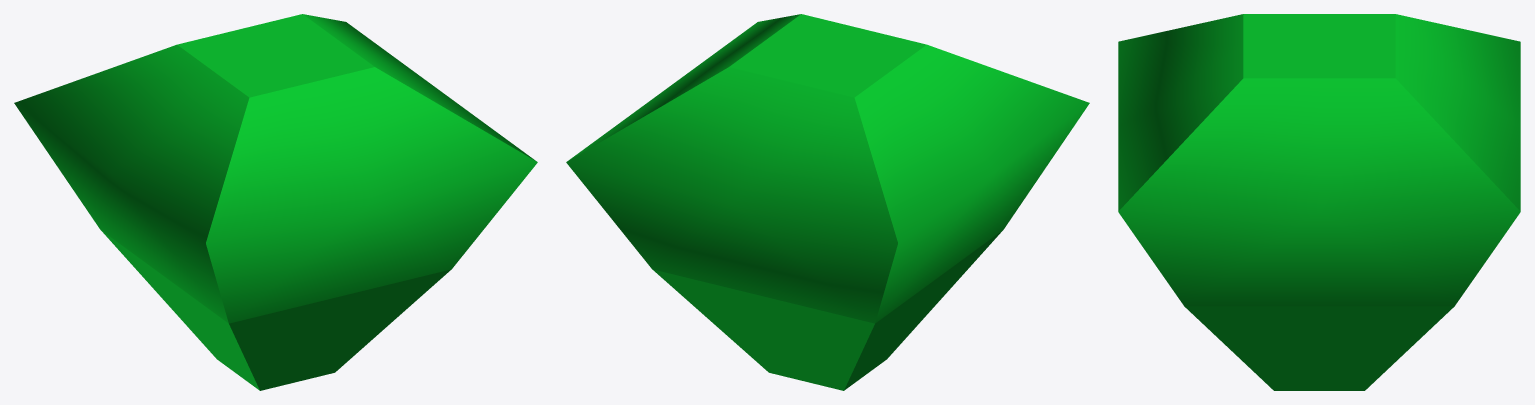
Rendered from jemstone.fbx.
The picture shows the model from 3 angles, left to right: view 1: azimuth 30°, elevation 25°; view 2: azimuth 150°, elevation 25°; view 3: azimuth 270°, elevation 25°; orthographic projection. The views are drawn at different scales.
Parts seen in each view (by area): view 1: pCube1; view 2: pCube1; view 3: pCube1.
Part boxes in pixels (left/top/right/bottom): pCube1: left=14, top=14, right=537, bottom=390; pCube1: left=566, top=14, right=1089, bottom=390; pCube1: left=1118, top=14, right=1520, bottom=390.
Size of the model in its own units: 1.49 by 1.33 by 1.49.
